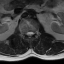CCS_normal: (28, 29, 31, 39)
LFS_normal: (34, 30, 36, 36)
LLS_normal: (31, 30, 33, 37)
RFS_stenosis: (23, 30, 26, 36)
RLS_normal: (26, 29, 29, 37)
